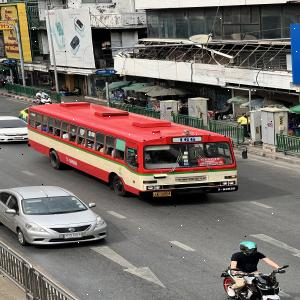BMTA-bus: (20, 102, 238, 199)
Bus Line Number: (176, 136, 199, 142)
Bus Side Number: (215, 187, 236, 192)
Destination Sign: (198, 158, 223, 166)
